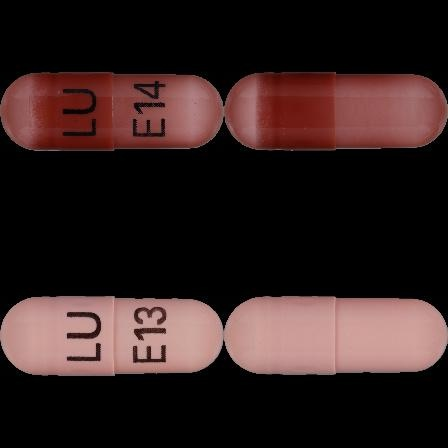54868-5781: (0, 0, 224, 224)
